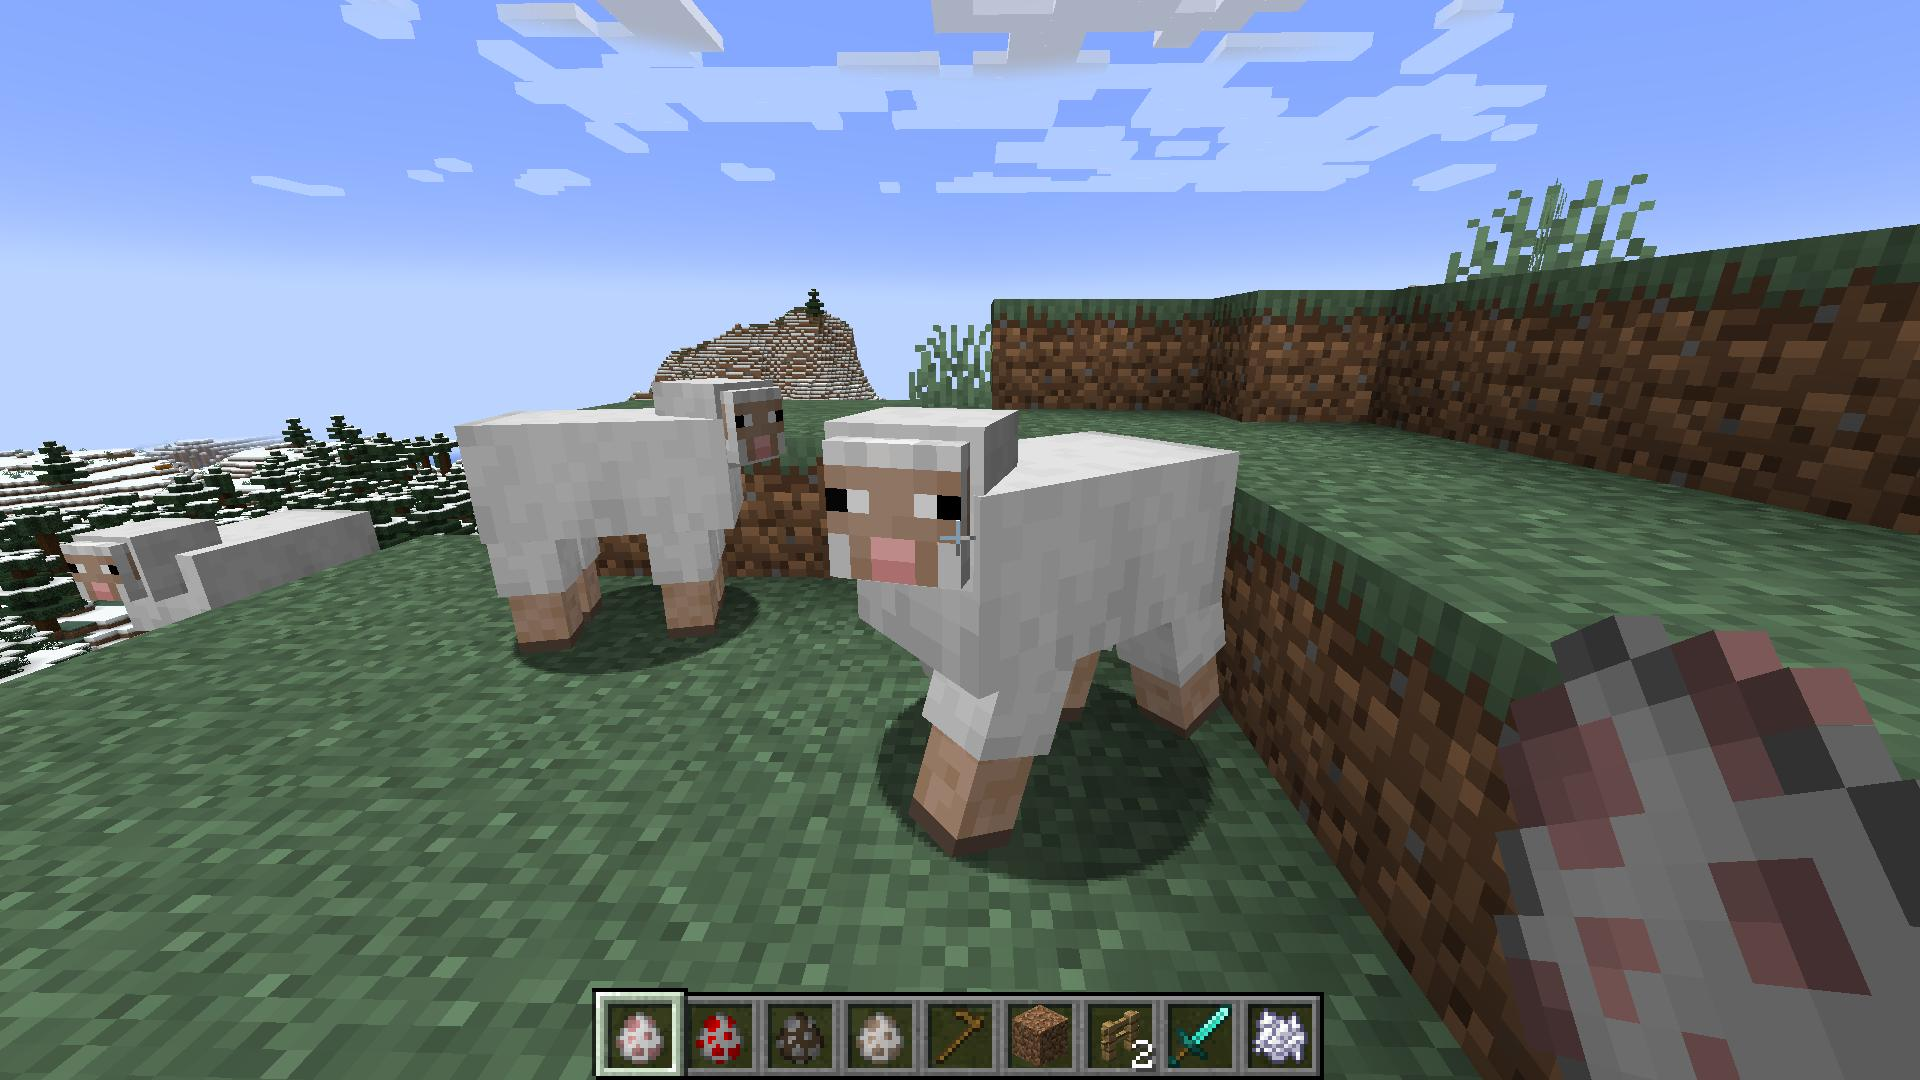sheep: (811, 398, 1245, 857), (458, 375, 793, 665), (57, 501, 389, 637)
